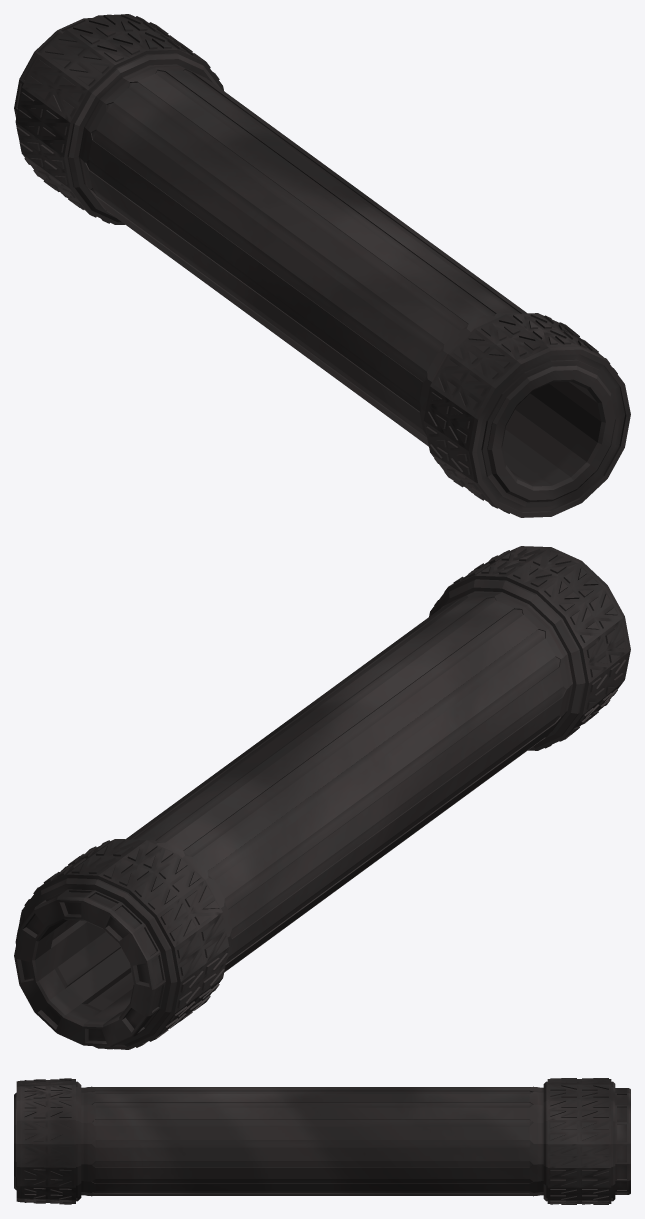
Rendered from SilencerAK.fbx.
The picture shows the model from 3 angles, top to bottom: view 1: azimuth 30°, elevation 25°; view 2: azimuth 150°, elevation 25°; view 3: azimuth 270°, elevation 25°; orthographic projection. The views are drawn at different scales.
Parts seen in each view (by area): view 1: SilencerAK; view 2: SilencerAK; view 3: SilencerAK.
Part boxes in pixels (box(x1,y1,x2,y2)): SilencerAK: box(14, 14, 630, 517); SilencerAK: box(14, 546, 630, 1049); SilencerAK: box(14, 1078, 630, 1204).
Bounding box in the file's own units: 15.46 × 15.46 × 75.37.
1 material, 1 textured.
